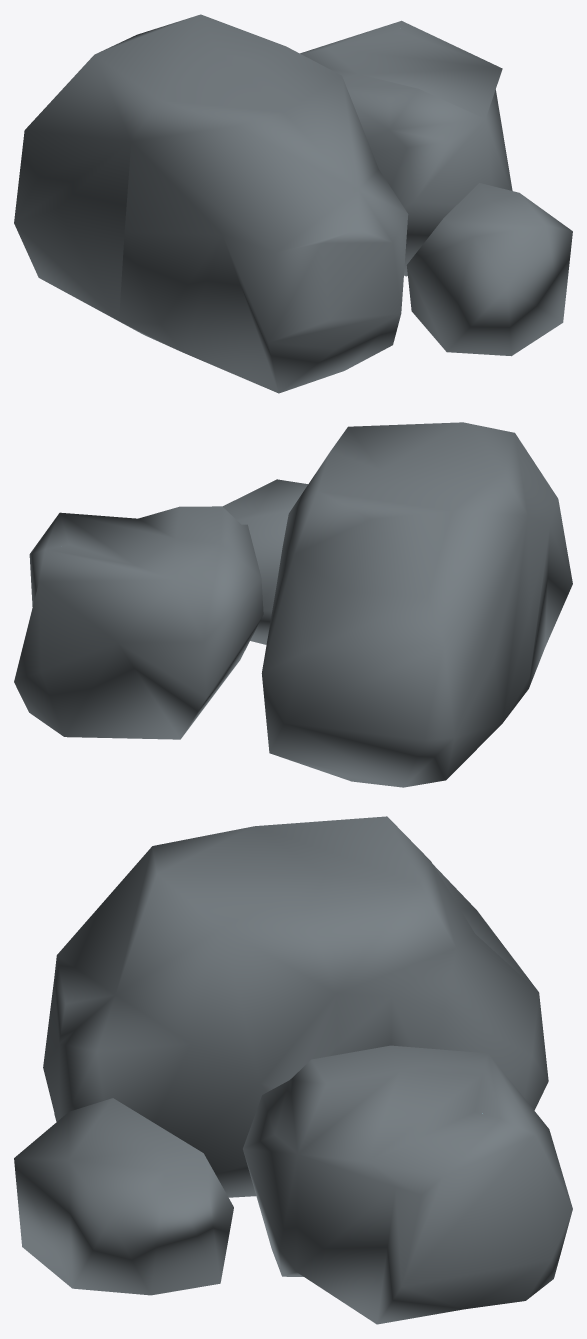
Rendered from rock-b.glb.
3 views of the same model, one above another, from view 1: azimuth 30°, elevation 25°; view 2: azimuth 150°, elevation 25°; view 3: azimuth 270°, elevation 25° (orthographic). The views are drawn at different scales.
Visible parts, largest first — view 1: tripo_node_63272007-e49c-4cca-b272-6267a111fed5; view 2: tripo_node_63272007-e49c-4cca-b272-6267a111fed5; view 3: tripo_node_63272007-e49c-4cca-b272-6267a111fed5.
Part boxes in pixels (x1=…): tripo_node_63272007-e49c-4cca-b272-6267a111fed5: x1=14, y1=14, x2=572, y2=393; tripo_node_63272007-e49c-4cca-b272-6267a111fed5: x1=14, y1=422, x2=572, y2=787; tripo_node_63272007-e49c-4cca-b272-6267a111fed5: x1=14, y1=816, x2=572, y2=1324.
Size of the model in its own units: 0.9912 by 0.5227 by 0.9224.
Materials: 1 (1 with a texture image).
